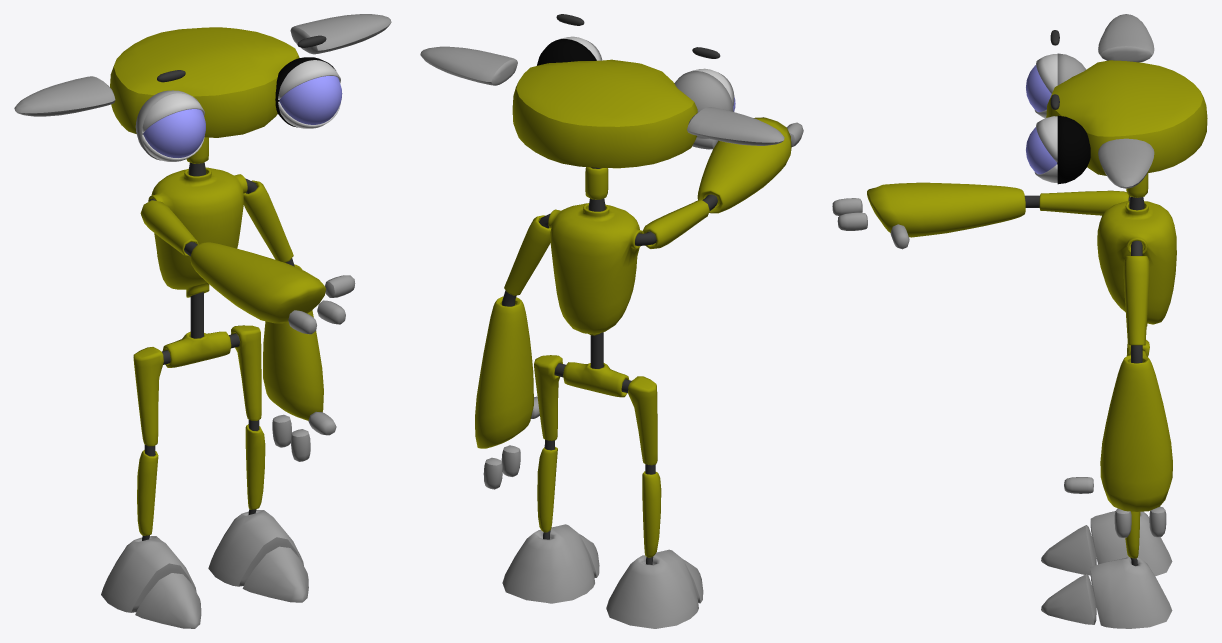
File: click2.obj
3 views of the same model, side by side, from view 1: azimuth 30°, elevation 25°; view 2: azimuth 150°, elevation 25°; view 3: azimuth 270°, elevation 25° (orthographic). The views are drawn at different scales.
Visible parts, largest first — view 1: Mesh polySurface50, Mesh polySurface41, Mesh polySurface37, Mesh polySurface18, Mesh polySurface48, Mesh polySurface26, Mesh polySurface10, Mesh polySurface8, Mesh polySurface24, Mesh polySurface47, Mesh polySurface22, Mesh polySurface6 (+17 smaller); view 2: Mesh polySurface41, Mesh polySurface50, Mesh polySurface48, Mesh polySurface18, Mesh polySurface26, Mesh polySurface10, Mesh polySurface37, Mesh polySurface47, Mesh polySurface44, Mesh polySurface28, Mesh polySurface12, Mesh polySurface51 (+7 smaller); view 3: Mesh polySurface18, Mesh polySurface50, Mesh polySurface37, Mesh polySurface41, Mesh polySurface10, Mesh polySurface48, Mesh polySurface26, Mesh polySurface51, Mesh polySurface44, Mesh polySurface4, Mesh polySurface38, Mesh polySurface8 (+9 smaller).
Boxes of the visible parts, left/top/right/bottom form: Mesh polySurface50: left=114, top=27, right=297, bottom=96; Mesh polySurface41: left=148, top=167, right=247, bottom=297; Mesh polySurface37: left=190, top=242, right=325, bottom=323; Mesh polySurface18: left=263, top=264, right=323, bottom=420; Mesh polySurface48: left=110, top=51, right=299, bottom=137; Mesh polySurface26: left=101, top=536, right=196, bottom=612; Mesh polySurface10: left=208, top=510, right=303, bottom=586; Mesh polySurface8: left=242, top=546, right=308, bottom=602; Mesh polySurface24: left=135, top=573, right=201, bottom=628; Mesh polySurface47: left=14, top=76, right=115, bottom=113; Mesh polySurface22: left=143, top=109, right=205, bottom=157; Mesh polySurface6: left=279, top=76, right=342, bottom=124; Mesh polySurface41: left=548, top=203, right=643, bottom=335; Mesh polySurface50: left=516, top=59, right=693, bottom=126; Mesh polySurface48: left=512, top=82, right=697, bottom=167; Mesh polySurface18: left=475, top=296, right=533, bottom=448; Mesh polySurface26: left=606, top=549, right=698, bottom=628; Mesh polySurface10: left=502, top=524, right=594, bottom=603; Mesh polySurface37: left=697, top=117, right=791, bottom=213; Mesh polySurface47: left=687, top=107, right=784, bottom=142; Mesh polySurface44: left=420, top=46, right=515, bottom=81; Mesh polySurface28: left=628, top=376, right=657, bottom=465; Mesh polySurface12: left=534, top=355, right=562, bottom=440; Mesh polySurface51: left=504, top=215, right=551, bottom=295; Mesh polySurface18: left=1100, top=355, right=1172, bottom=511; Mesh polySurface50: left=1050, top=60, right=1202, bottom=136; Mesh polySurface37: left=867, top=182, right=1025, bottom=237; Mesh polySurface41: left=1097, top=201, right=1176, bottom=326; Mesh polySurface10: left=1090, top=556, right=1172, bottom=628; Mesh polySurface48: left=1046, top=93, right=1207, bottom=175; Mesh polySurface26: left=1090, top=511, right=1172, bottom=576; Mesh polySurface51: left=1123, top=256, right=1149, bottom=345; Mesh polySurface44: left=1098, top=138, right=1154, bottom=187; Mesh polySurface4: left=1057, top=115, right=1090, bottom=184; Mesh polySurface38: left=1039, top=190, right=1129, bottom=215; Mesh polySurface8: left=1041, top=574, right=1094, bottom=624.
Size of the model in its own units: 10.05 by 14.23 by 9.27.
